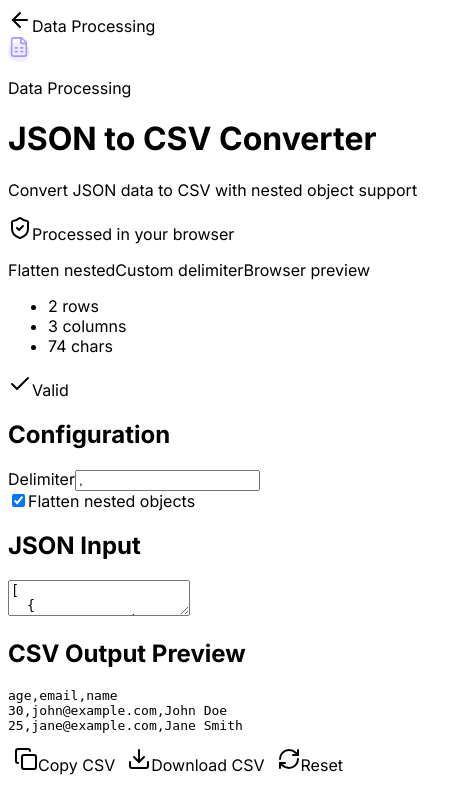
JSON to CSV Converter Page › Error Handling › shows error for invalid JSON
This screenshot has width=466, height=792.
Clear the text box with test id "codemirror-editor" at x=99, y=598, box [8,580,190,616]
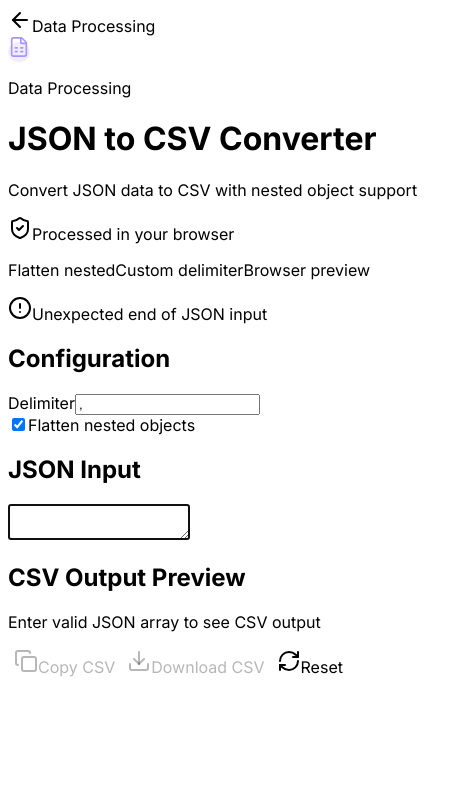
Type "not json at all" into the text box with test id "codemirror-editor" at x=99, y=522, box [8,504,190,540]
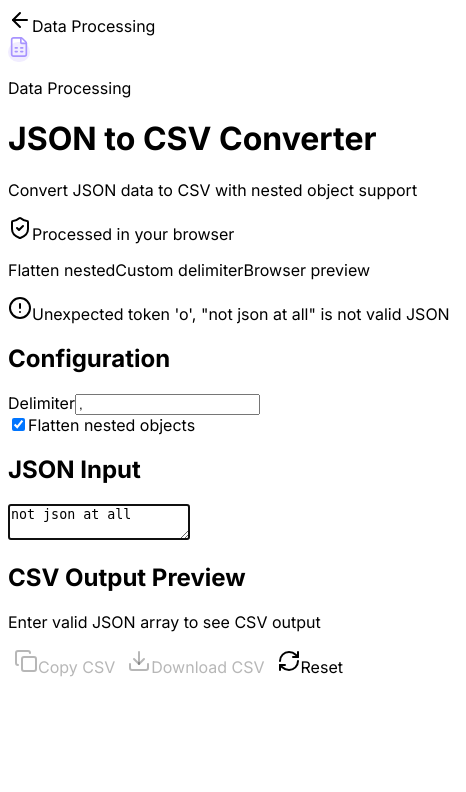
expect the text "Unexpected token 'o', \"not json at all\" is not valid JSON" is shown: met, box [32,304,450,324]
